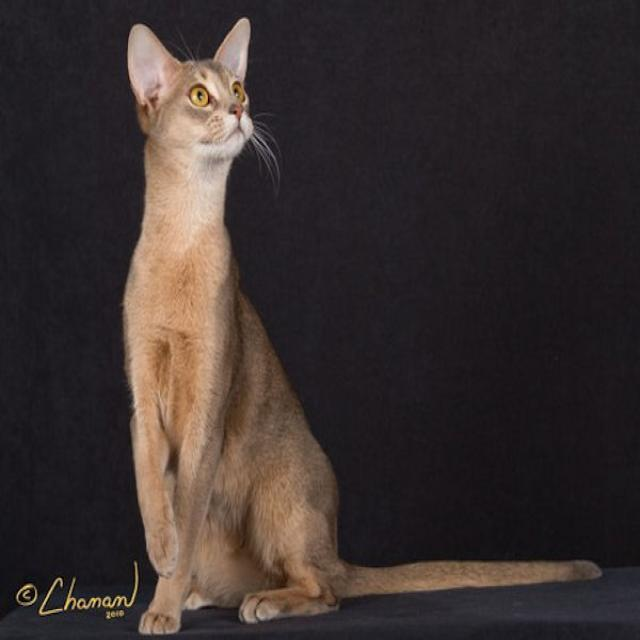Abyssinian: (126, 17, 258, 168)
